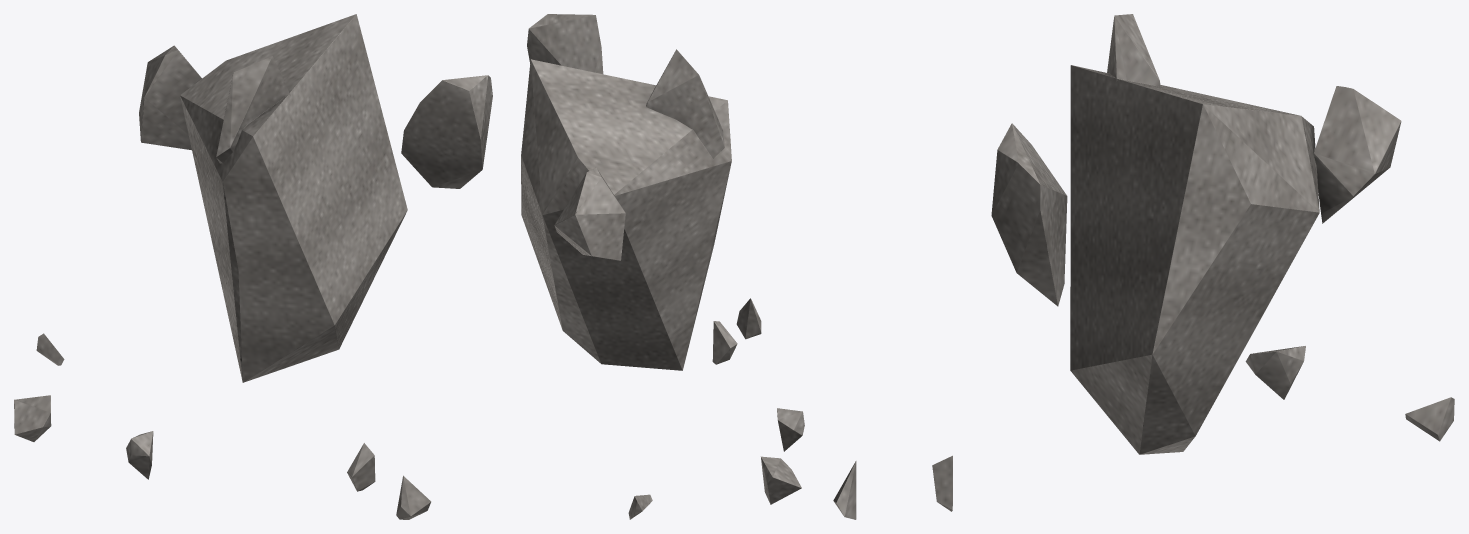
File: boulder_18.glb
The picture shows the model from 3 angles, left to right: view 1: azimuth 30°, elevation 25°; view 2: azimuth 150°, elevation 25°; view 3: azimuth 270°, elevation 25°; orthographic projection. The views are drawn at different scales.
Visible parts, largest first — view 1: boulder_18_c0; view 2: boulder_18_c0; view 3: boulder_18_c0.
Boxes of the visible parts, x1=… form: boulder_18_c0: x1=14, y1=14, x2=492, y2=519; boulder_18_c0: x1=521, y1=14, x2=804, y2=519; boulder_18_c0: x1=833, y1=14, x2=1454, y2=519.
Size of the model in its own units: 3.26 by 3.21 by 3.69.
1 material, 1 textured.
